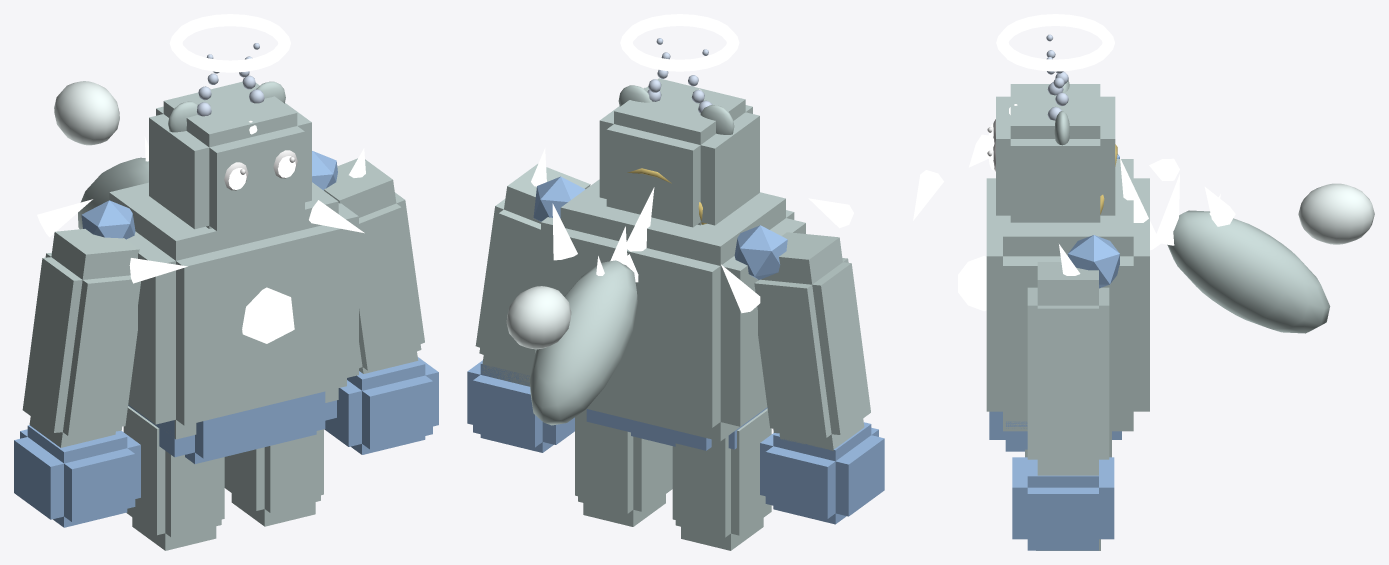
Rendered from boss_04.glb.
3 views of the same model, side by side, from view 1: azimuth 30°, elevation 25°; view 2: azimuth 150°, elevation 25°; view 3: azimuth 270°, elevation 25° (orthographic). The views are drawn at different scales.
Visible parts, largest first — view 1: box; view 2: box; view 3: box.
Boxes of the visible parts, x1=… form: box: x1=14, y1=14, x2=438, y2=550; box: x1=467, y1=14, x2=884, y2=550; box: x1=913, y1=14, x2=1374, y2=550.
Bounding box in the file's own units: 1.72 × 2.06 × 1.81.
